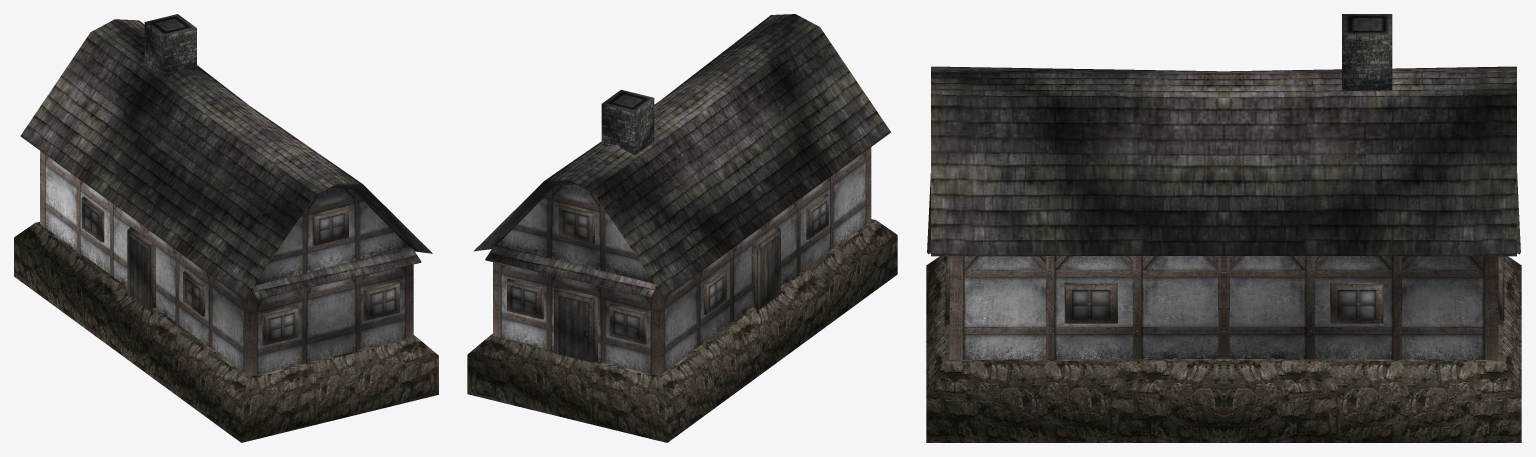
Rendered from house1-04.obj.
3 views of the same model, side by side, from view 1: azimuth 30°, elevation 25°; view 2: azimuth 150°, elevation 25°; view 3: azimuth 270°, elevation 25° (orthographic). The views are drawn at different scales.
Bounding box in the file's own units: 6.5 × 8.52 × 12.96.
